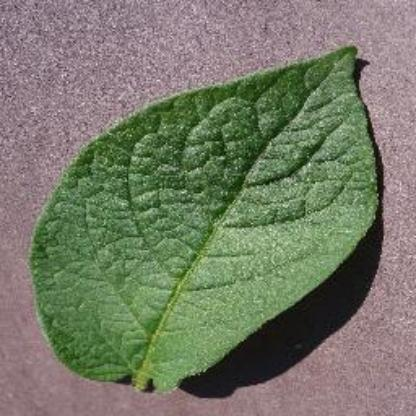Healthy-plant: (29, 44, 385, 396)
